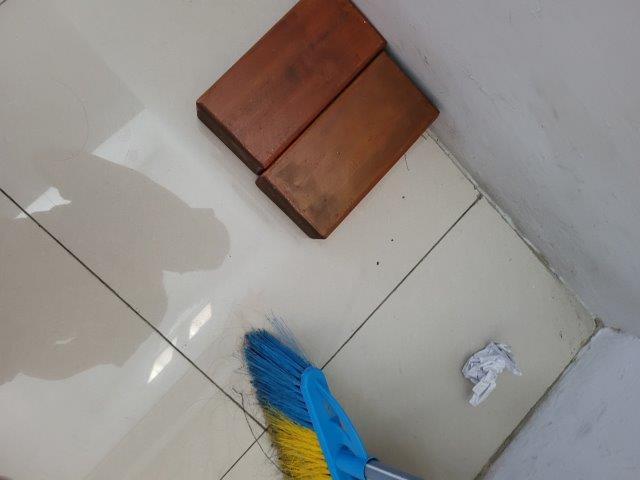kertas: (461, 342, 521, 409)
